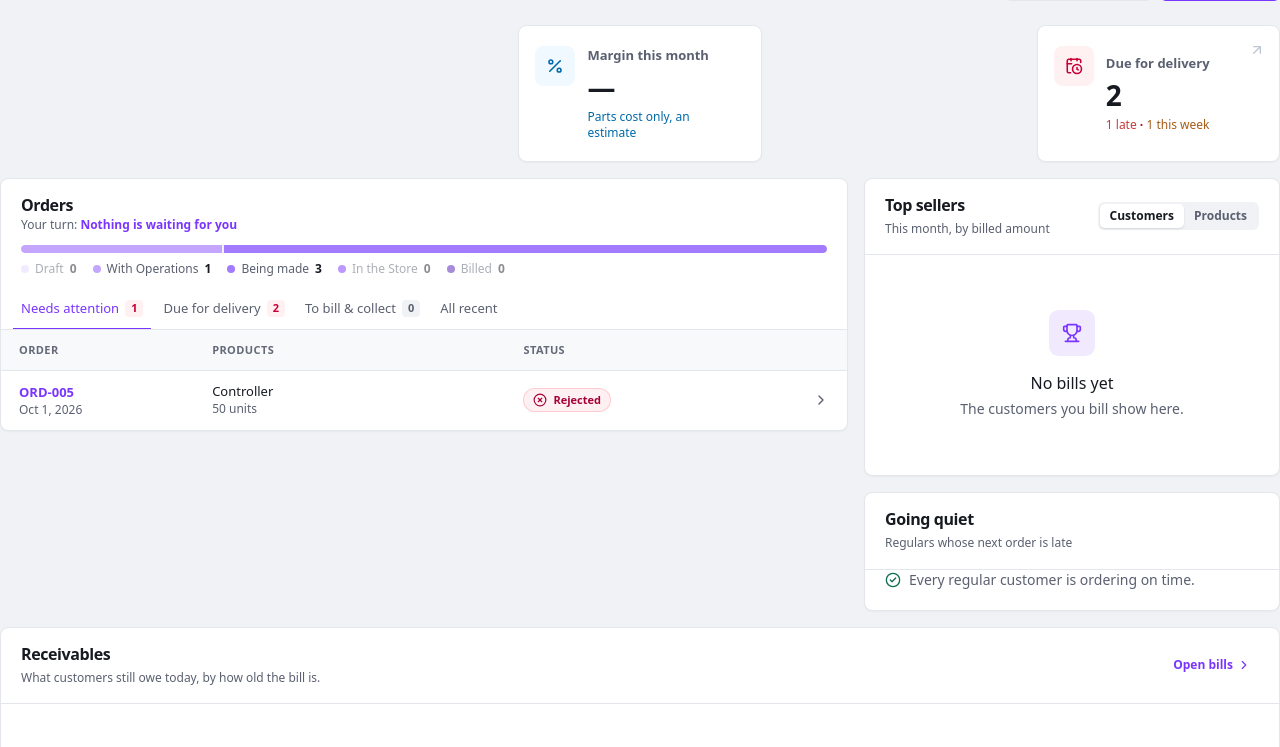
Test: Marketing dashboard figures › counts what is due for delivery: late or within 7 days, not all given out, still open
Click the button "Due for delivery 2 1 late · 1 this week" at (1158, 93), box 1037,25 -> 1279,162
(page scrolled)
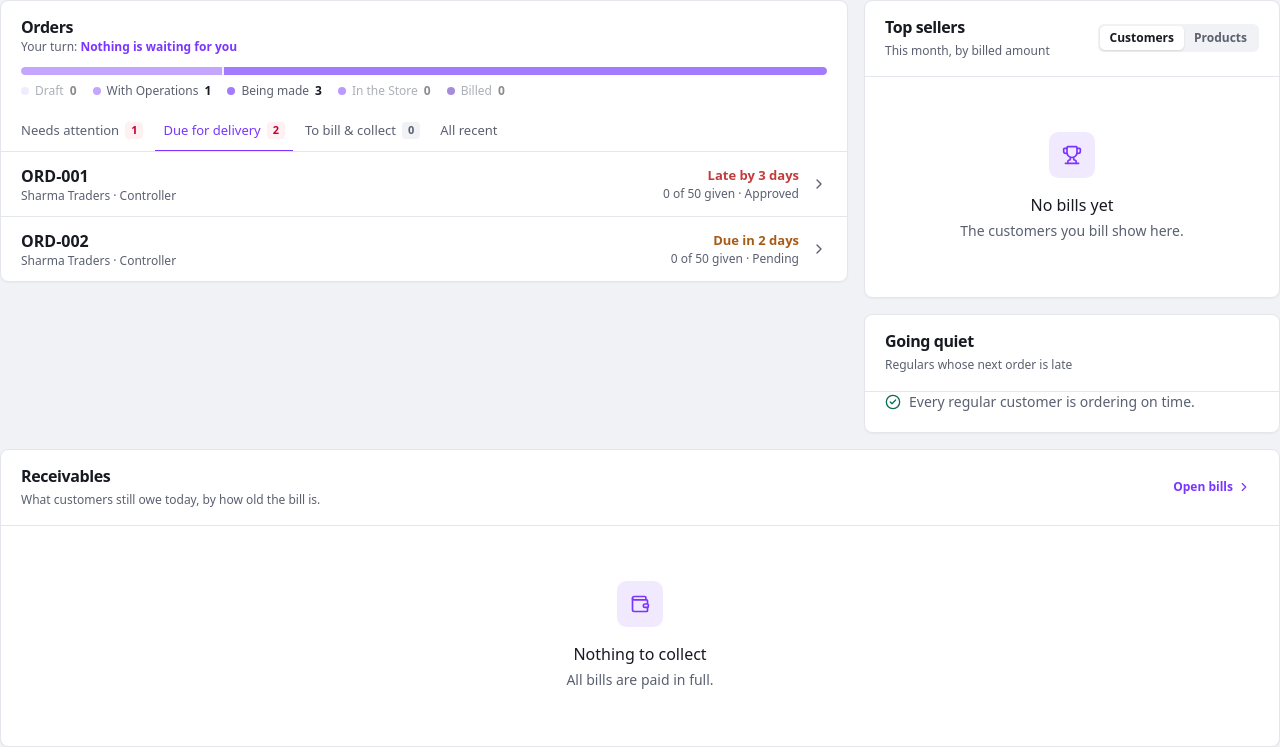
Check: the text "Late by 3 days" is shown, box 708,166 -> 799,184
Check: the text "Due in 2 days" is shown, box 713,231 -> 799,249
